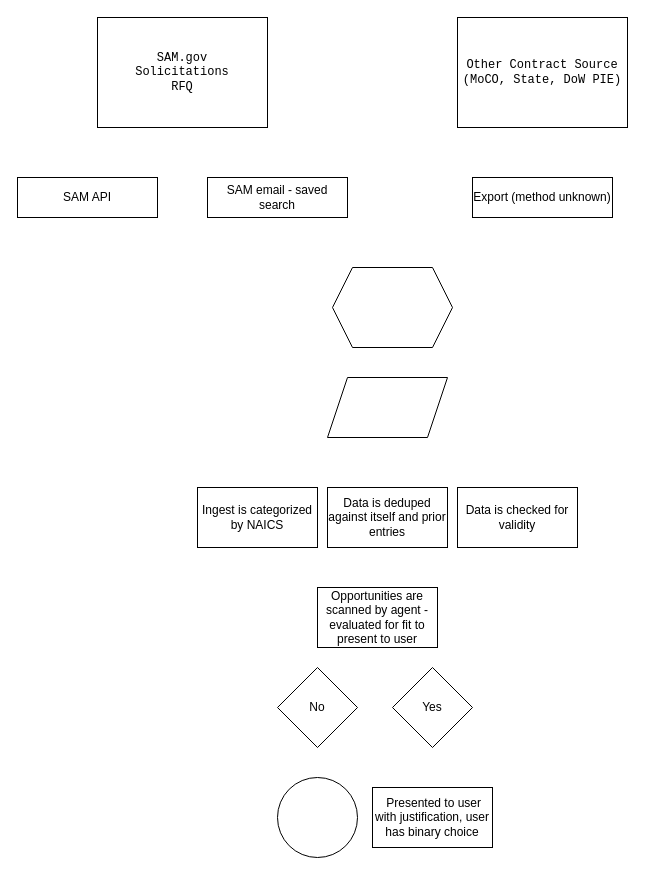
The diagram is 645 pixels wide and 875 high, and some of its shapes have lost their labels. Each missing label, with the centre of its shape:
Data is normalized and processed: the point at 387,407
Everfield Ops Ingests: the point at 392,307
Kept for a period of time then purged: the point at 317,817
